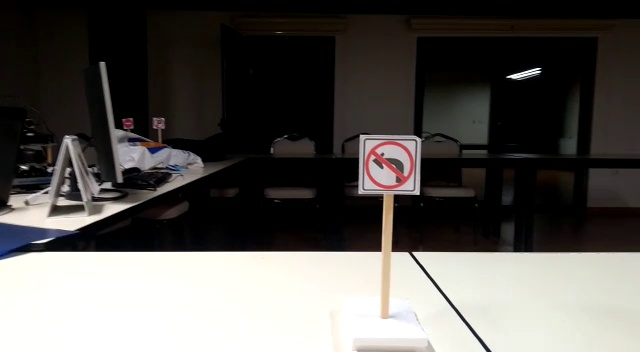sola_donulmez: (360, 141, 417, 193)
